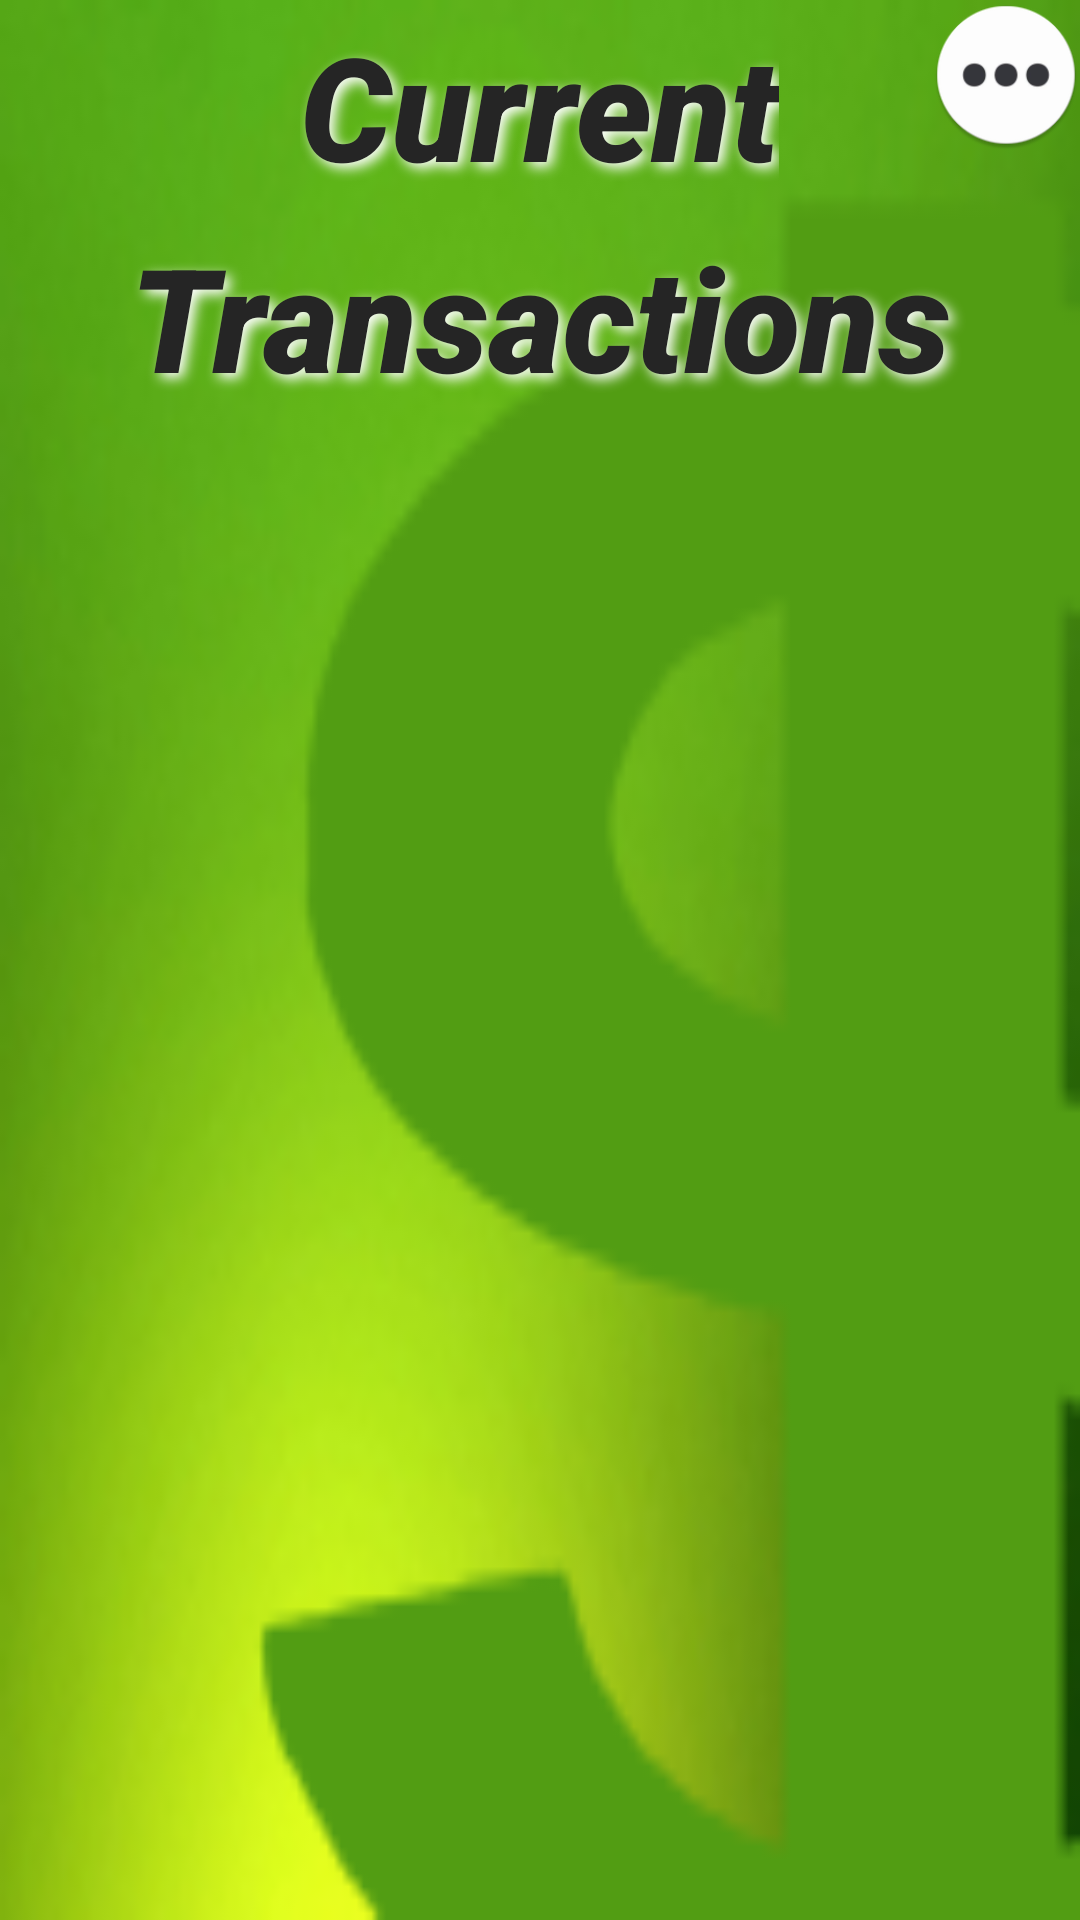

Screen size 1080px x 1920px. Icon name, then its box in pixels as box=[x1, y1, x2, y2]:
menu: box=[937, 6, 1076, 147]
